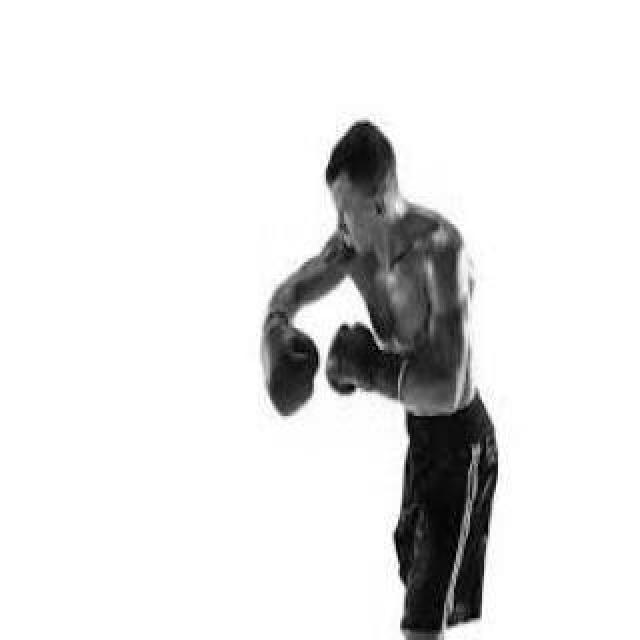fight: (224, 110, 522, 630)
